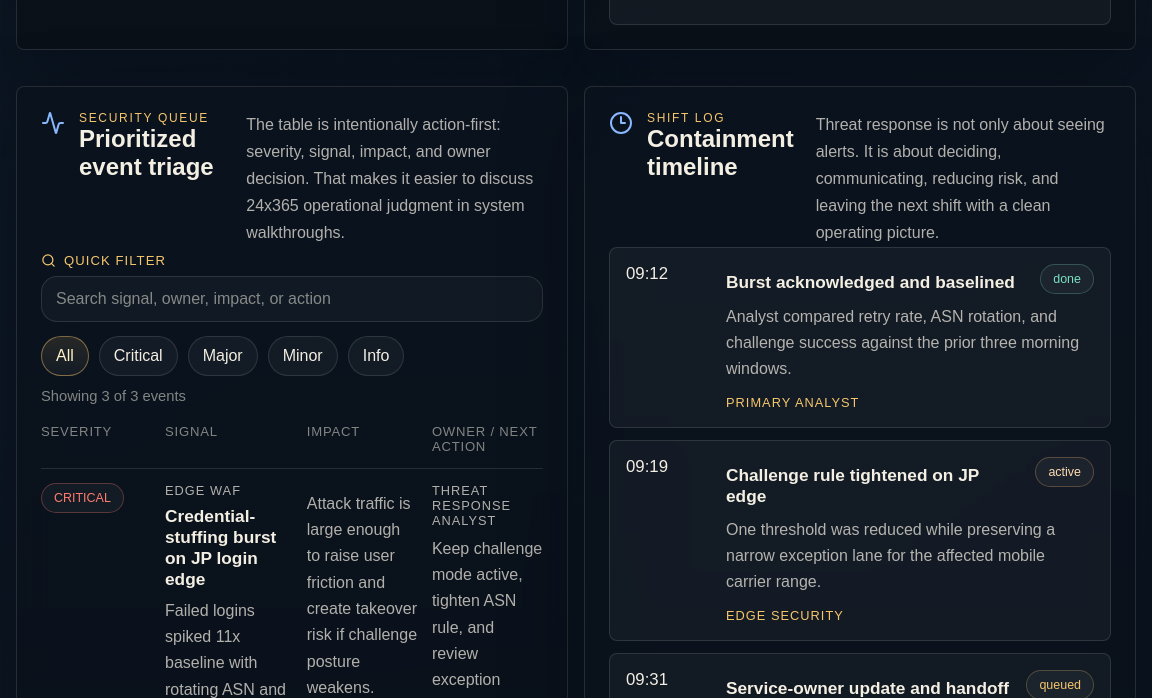
Scenario: Security Threat Response Workbench › filters the event queue and shows an empty state when nothing matches
The image size is (1152, 698).
(page scrolled)
Expected: the text "Prioritized event triage" is shown, [79,125,214,180]
Click the button "Critical": (138, 356) [99,336,178,376]
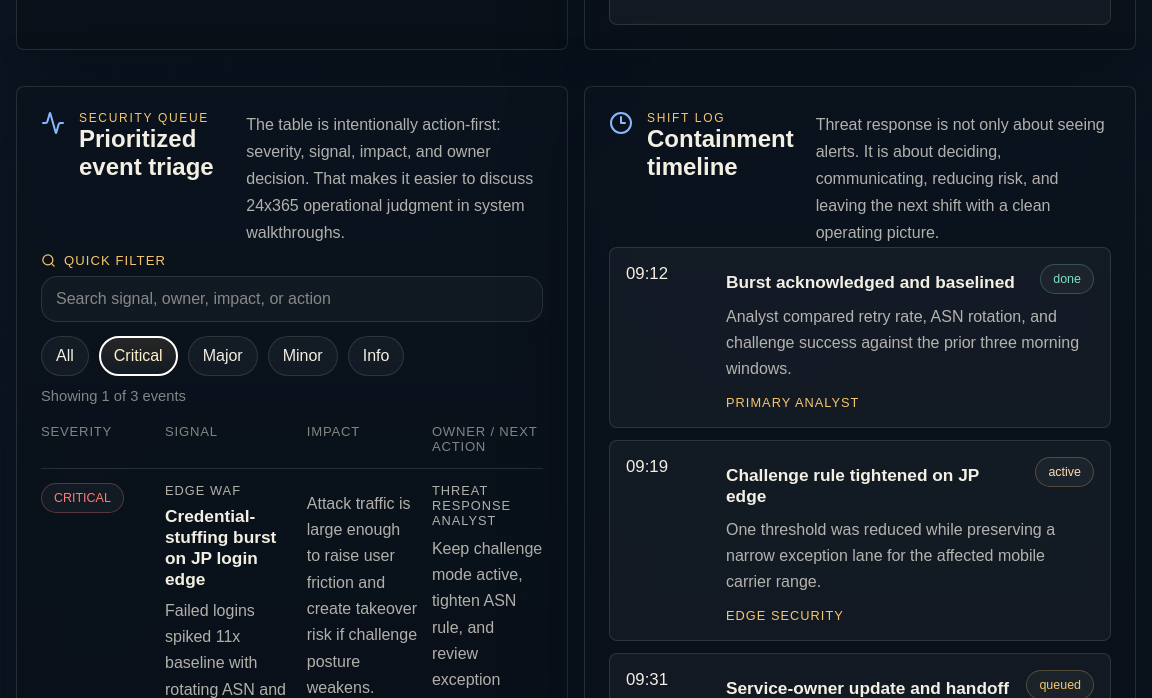
Result: the text "Showing 1 of 3 events" is shown at [41,388,186,404]
In the search field named "Filter security events": (292, 298) [41,276,543,322], type "no-hit"
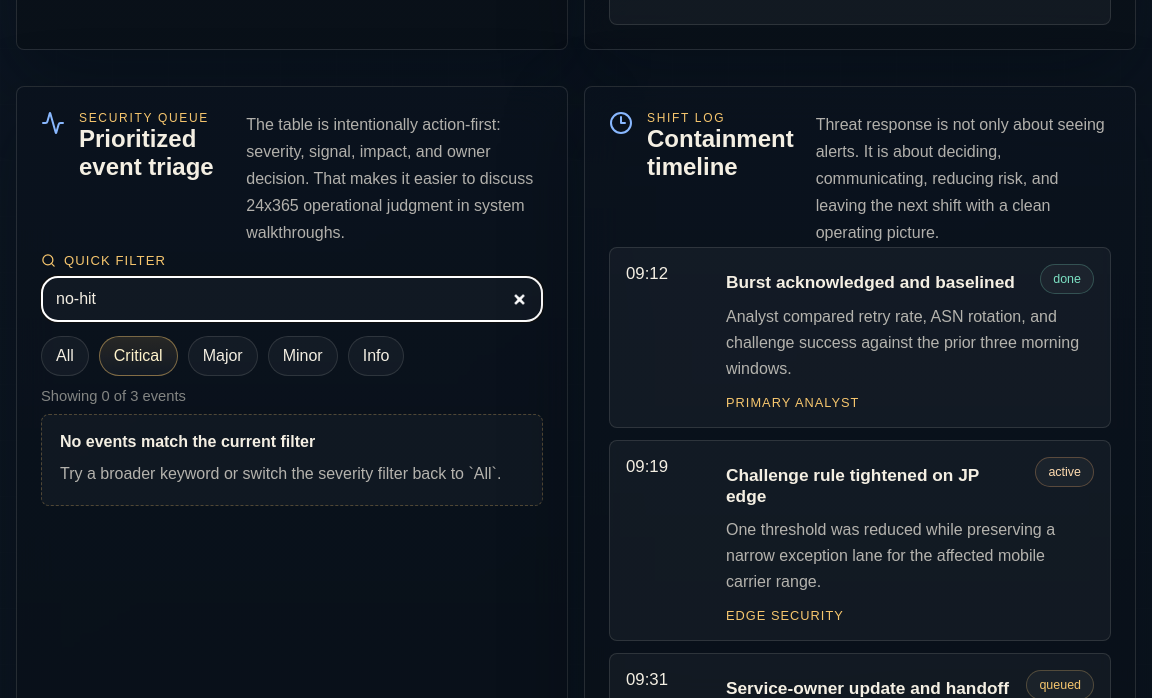
Result: the heading "No events match the current filter" is shown at [60,432,315,450]
